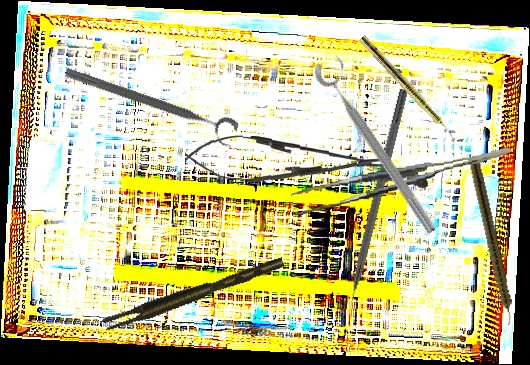Fixation Ring: (309, 50, 452, 238), (60, 62, 240, 150)
Handpiece: (357, 34, 461, 145), (465, 160, 518, 326)
Hook Surgical: (340, 88, 409, 317)
Needle Holder: (184, 133, 387, 188)
Tissue Forceps: (288, 147, 515, 216), (100, 257, 288, 332)
